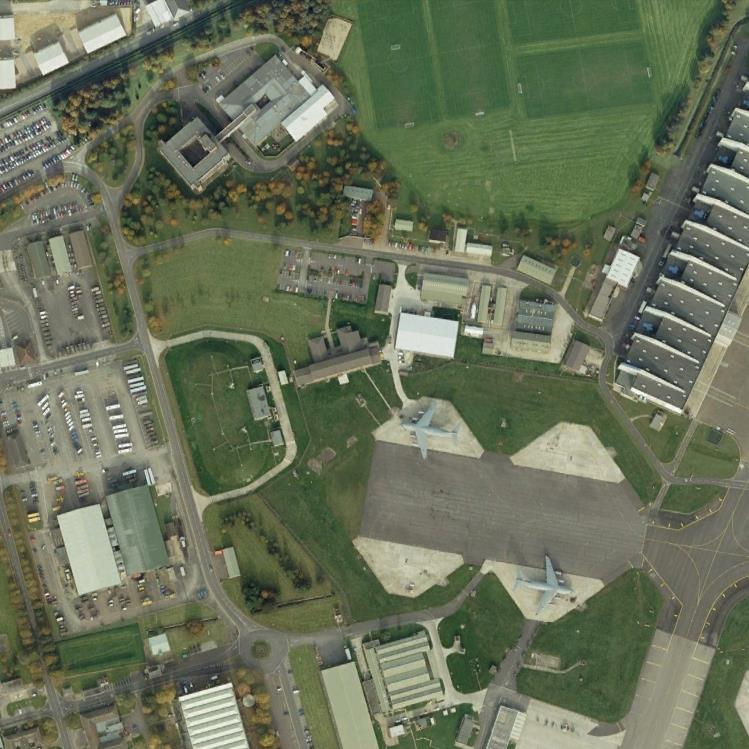A3: (400, 399, 463, 462), (513, 554, 575, 617)
